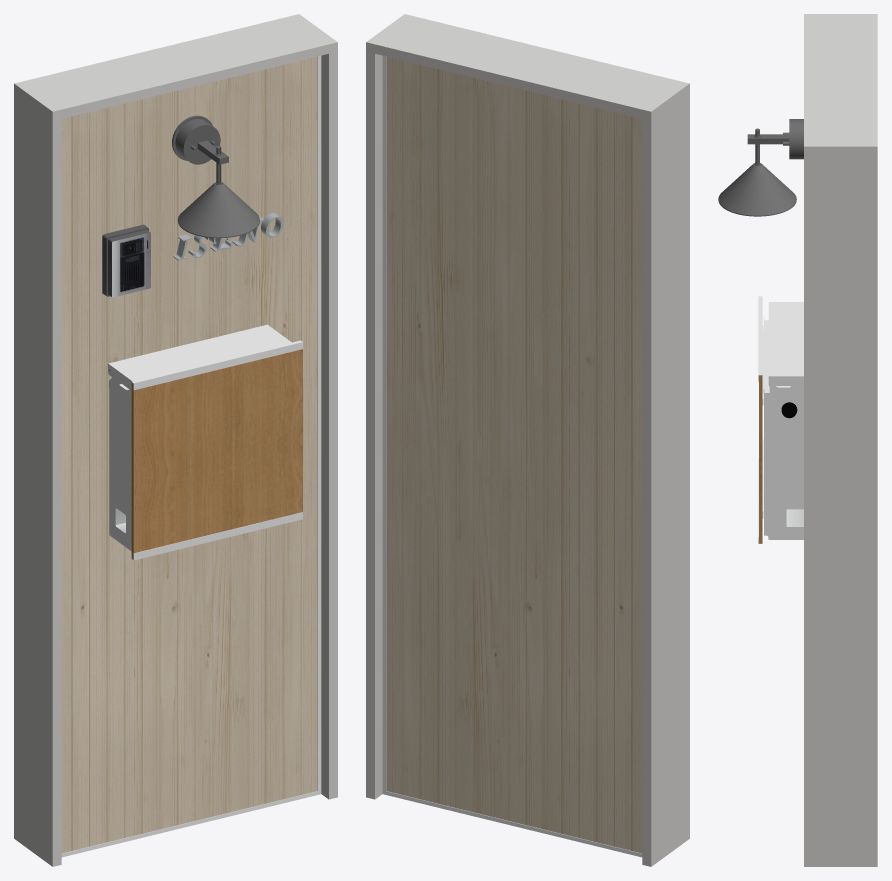
The model's file is 640-1620_mukuhosokoushi.fbx.
The picture shows the model from 3 angles, left to right: view 1: azimuth 30°, elevation 25°; view 2: azimuth 150°, elevation 25°; view 3: azimuth 270°, elevation 25°; orthographic projection. The views are drawn at different scales.
Visible parts, largest first — view 1: 640-1620_mukuhosokoushi; view 2: 640-1620_mukuhosokoushi; view 3: 640-1620_mukuhosokoushi.
Part boxes in pixels (left/top/right/bottom): 640-1620_mukuhosokoushi: left=14, top=14, right=337, bottom=866; 640-1620_mukuhosokoushi: left=366, top=14, right=689, bottom=866; 640-1620_mukuhosokoushi: left=718, top=14, right=877, bottom=866.
Bounding box in the file's own units: 64 × 162 × 32.47.
14 materials, 5 textured.
